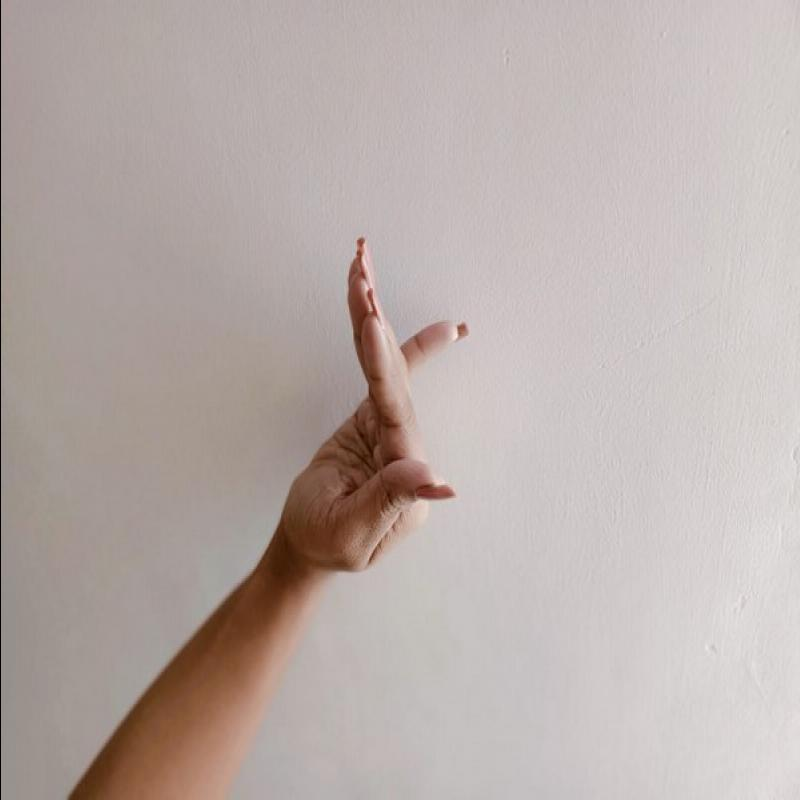Kartharee Mukham: (259, 216, 483, 590)
